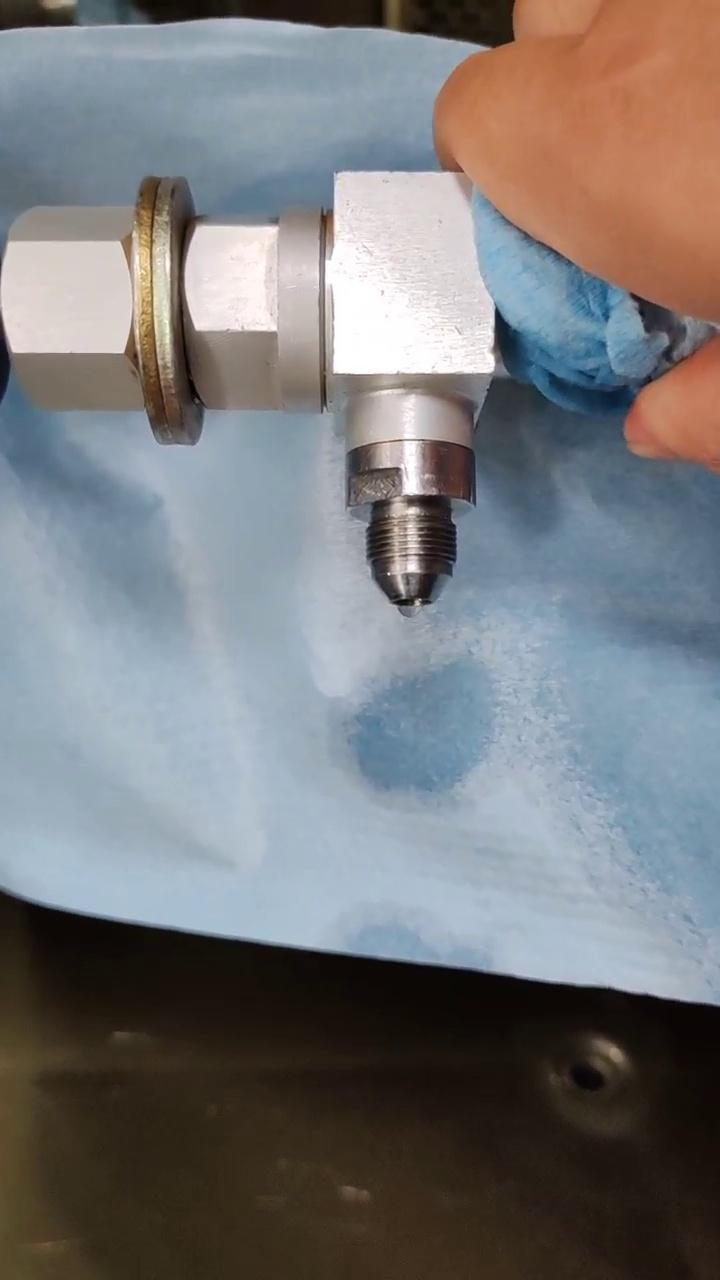water drop: (397, 600, 422, 618)
